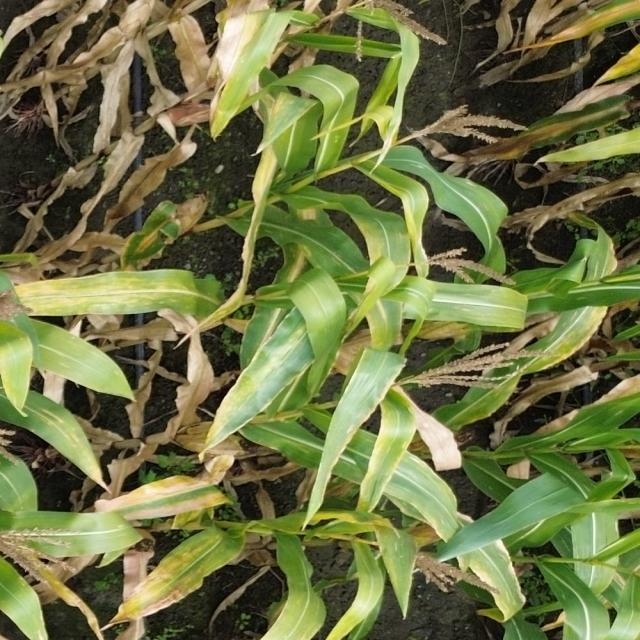gray-leaf-spot: (34, 402, 92, 452), (312, 231, 353, 272), (547, 313, 591, 349)
northern-leaf-blight: (548, 108, 628, 136), (135, 216, 179, 258)
southern-leaf-blight: (41, 274, 183, 315), (215, 385, 262, 429), (272, 99, 302, 136)
